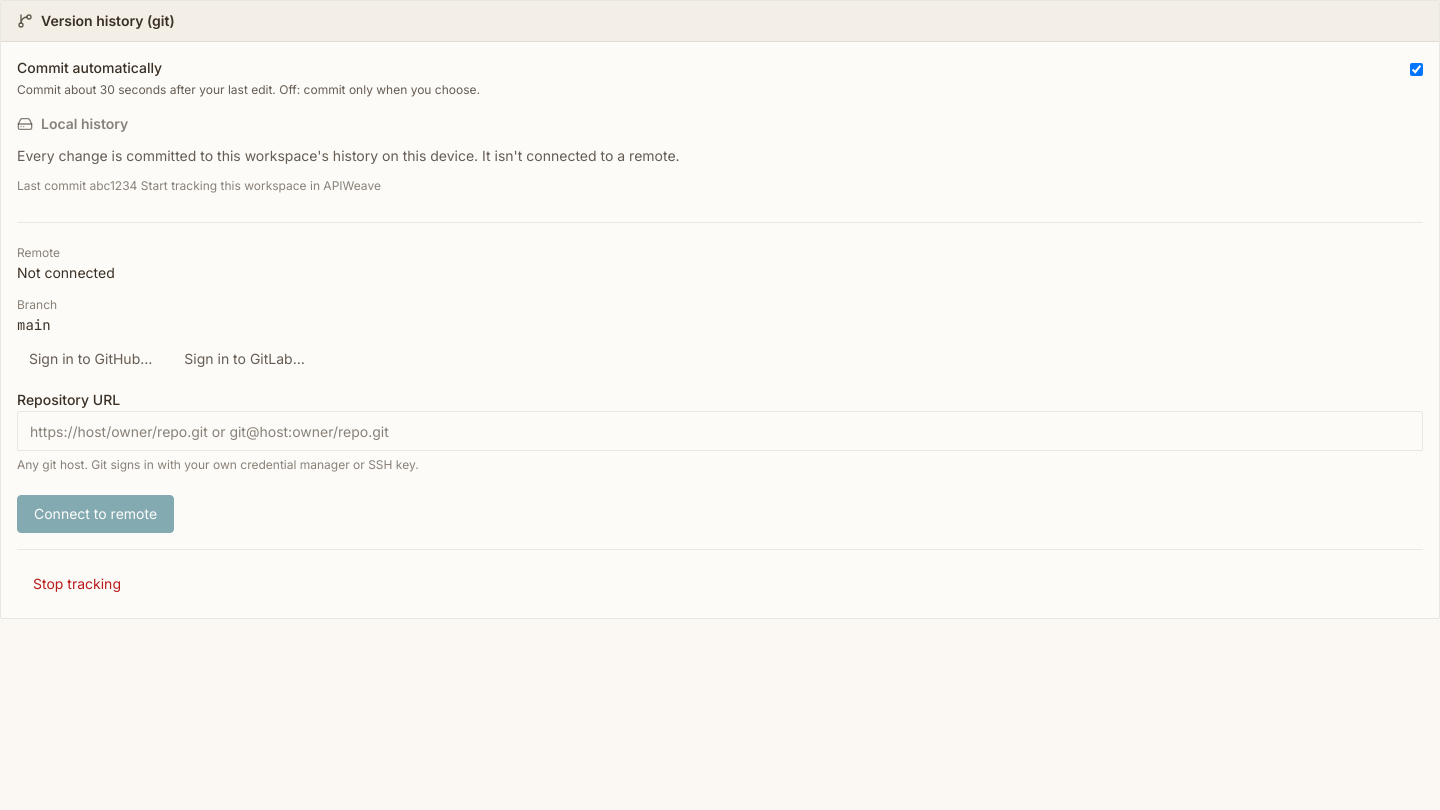
Scenario: VersionHistoryPanel › shows why a connect was refused, and keeps the URL to correct
This screenshot has width=1440, height=810.
Type "https://example.com/other.git" into the field named "Repository URL" at x=720, y=431, box left=17, top=411, right=1423, bottom=451
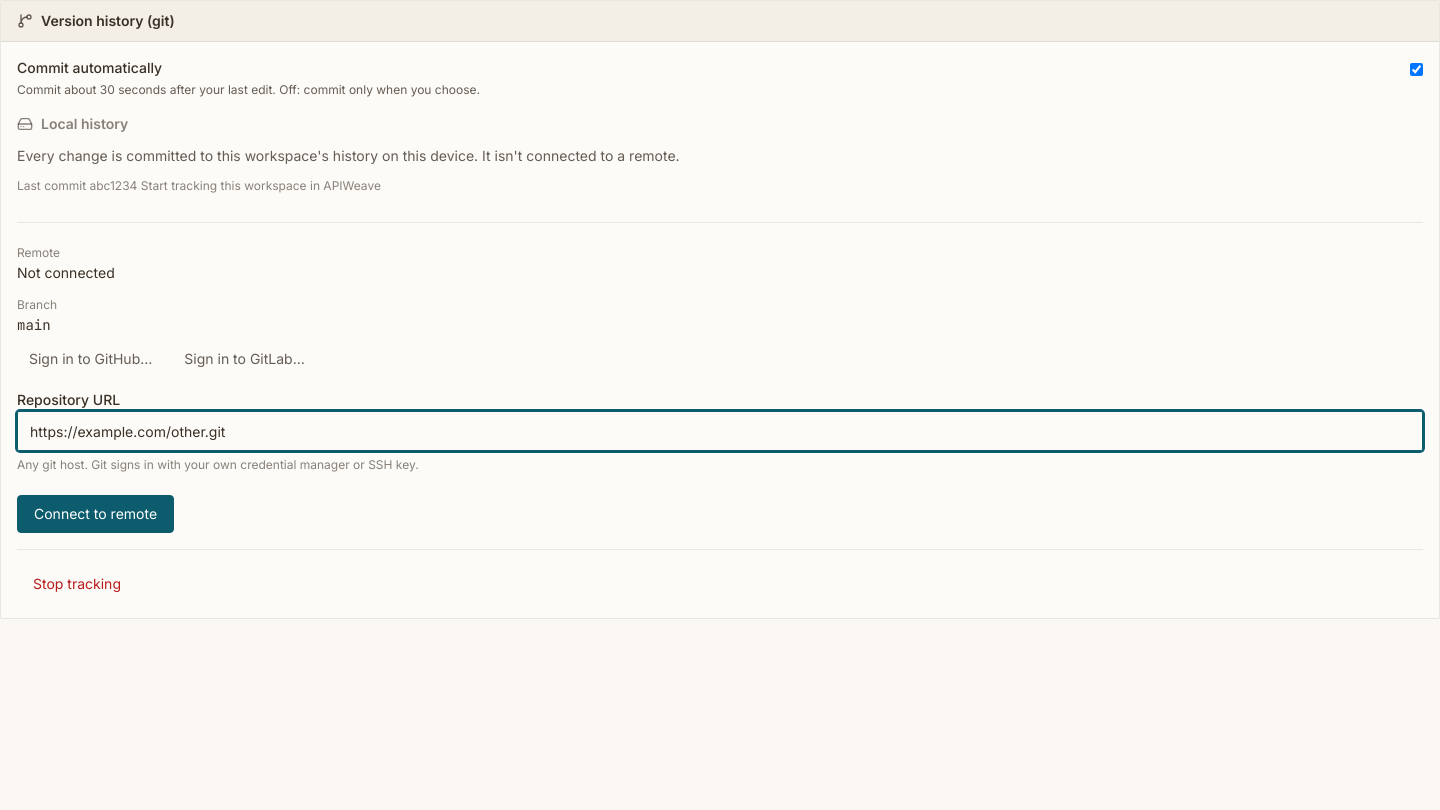
Click the button "Connect to remote" at x=96, y=514, box left=17, top=495, right=174, bottom=533
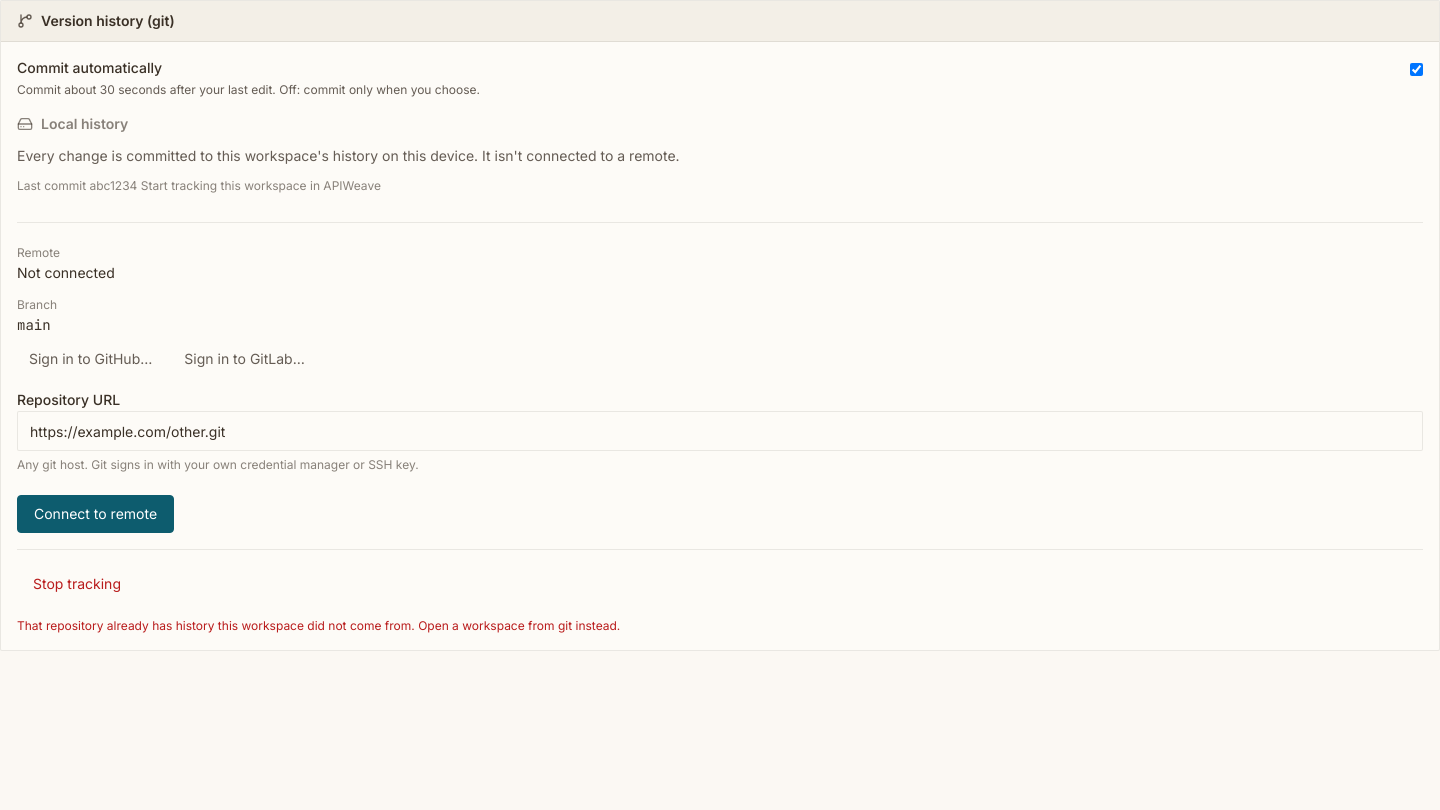
Expected: the text "Not connected" is shown, left=17, top=264, right=115, bottom=281
Result: the message shows "That repository already has history this workspace did not come from." at left=17, top=618, right=620, bottom=633
